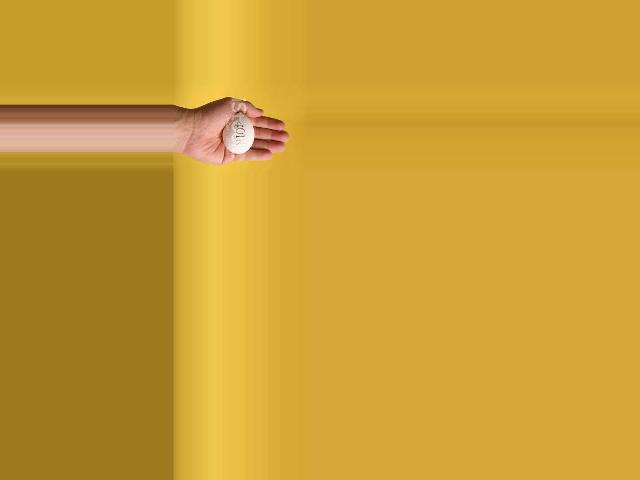egg: (223, 113, 254, 154)
